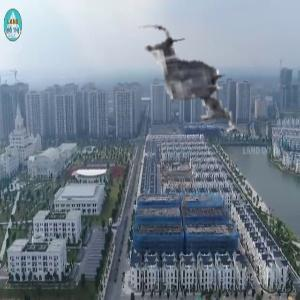drone: (123, 13, 260, 150)
